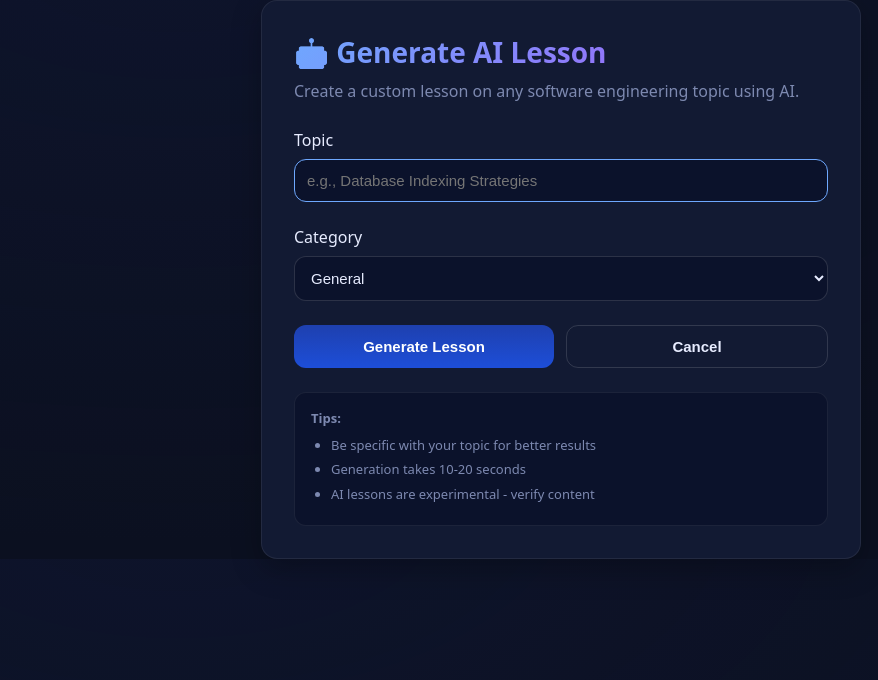
Scenario: AILessonGenerator Component › shows error message on generation failure
Type "test" into the field at (561,180), box [294, 159, 828, 202]
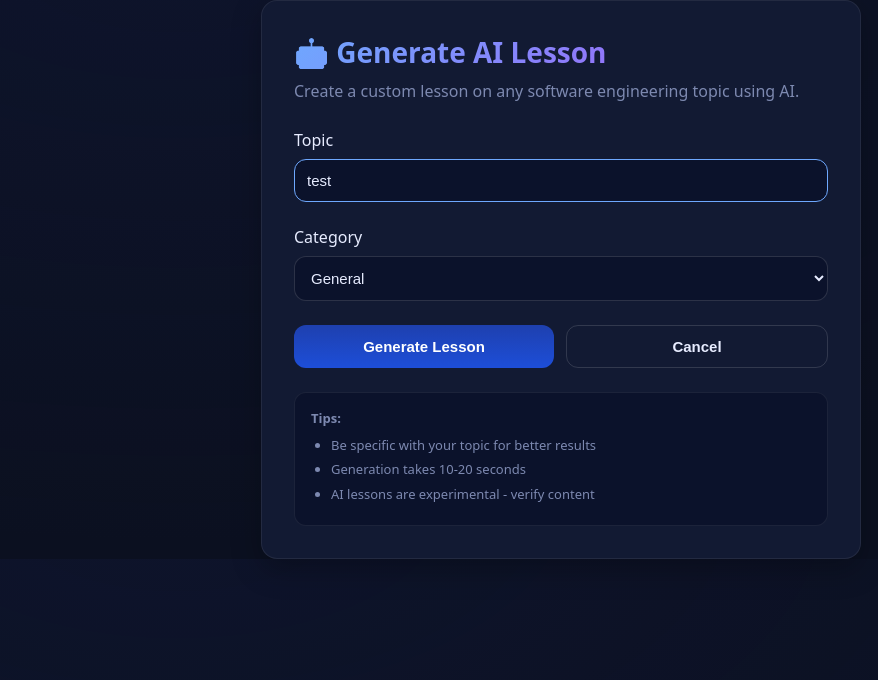
Click the button "Generate Lesson" at (424,346), box [294, 325, 554, 368]
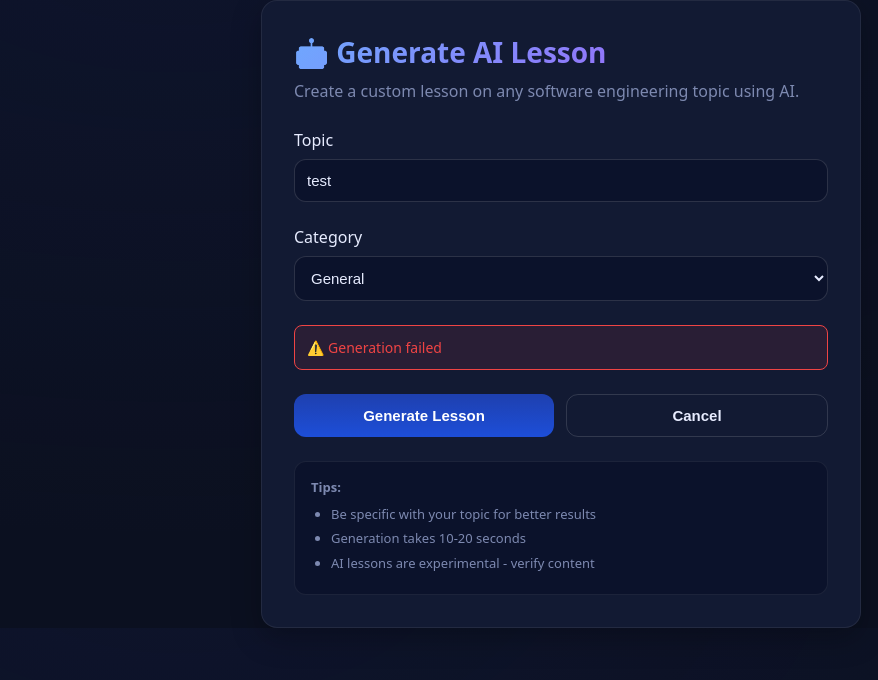
Now the text "⚠️ Generation failed" is shown, box [294, 325, 828, 370]
